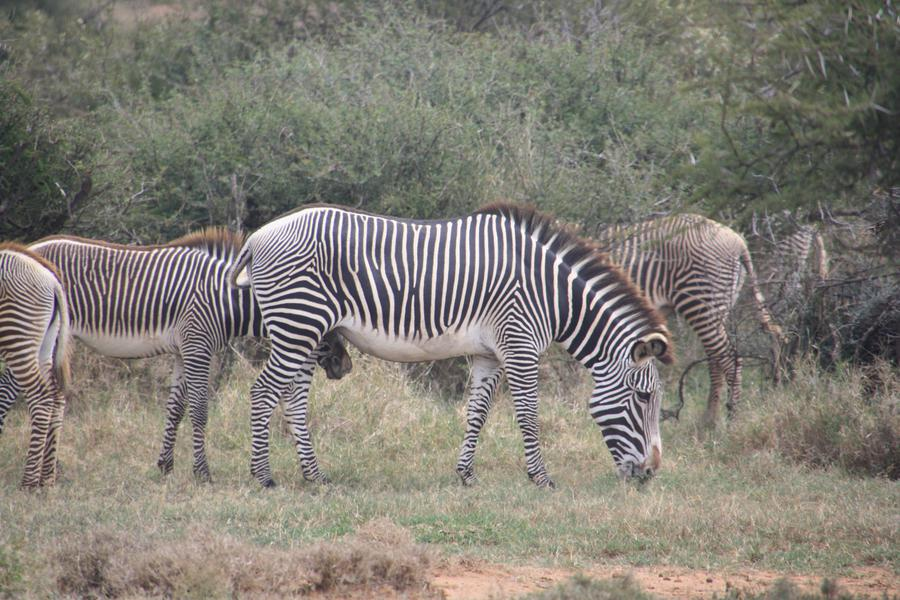zebra_grevys: (251, 206, 545, 354)
